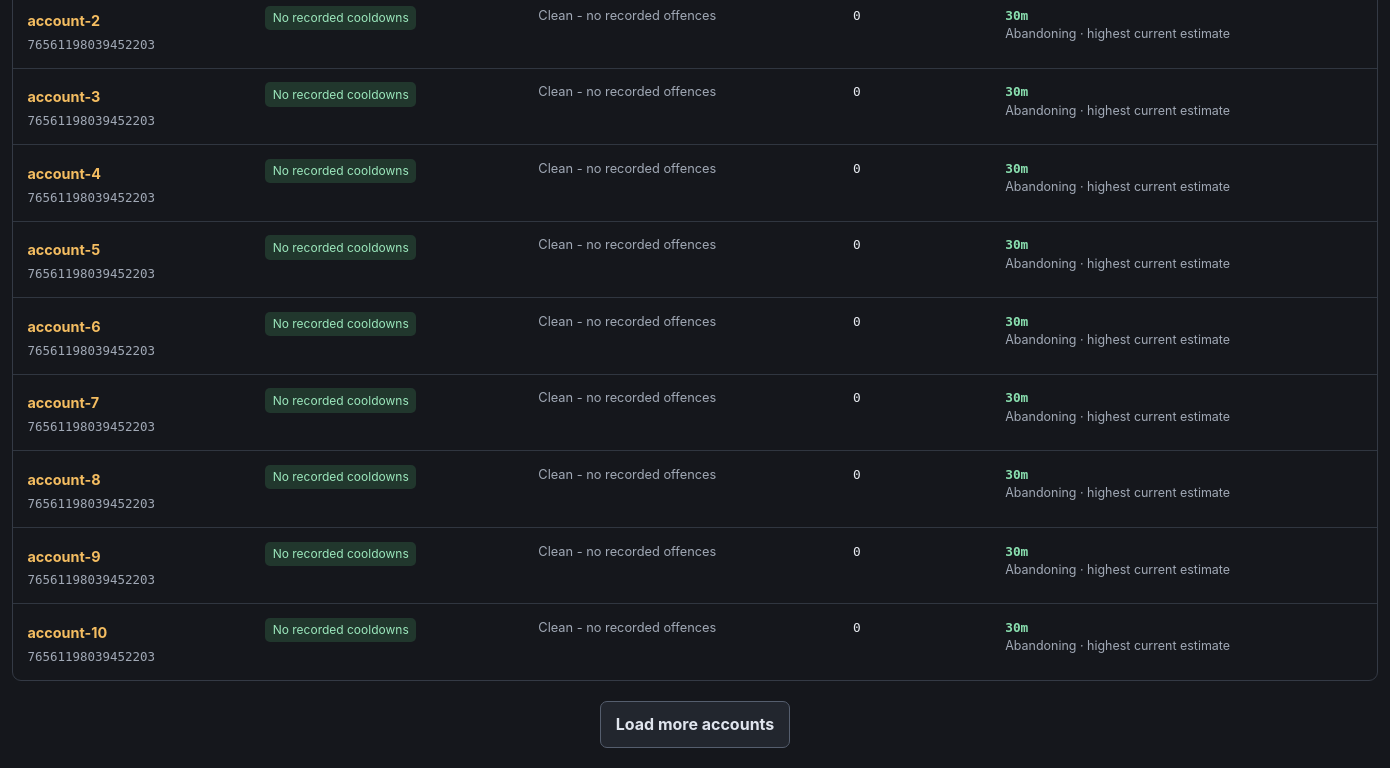
Scenario: [RQ-113 RQ-115 RQ-117 RQ-121] identifies saved and decayed account states, supporting offence and displayed row count
The image size is (1390, 768).
(page scrolled)
Click the button "Load more accounts" at (695, 724), box [600,701,790,748]
(page scrolled)
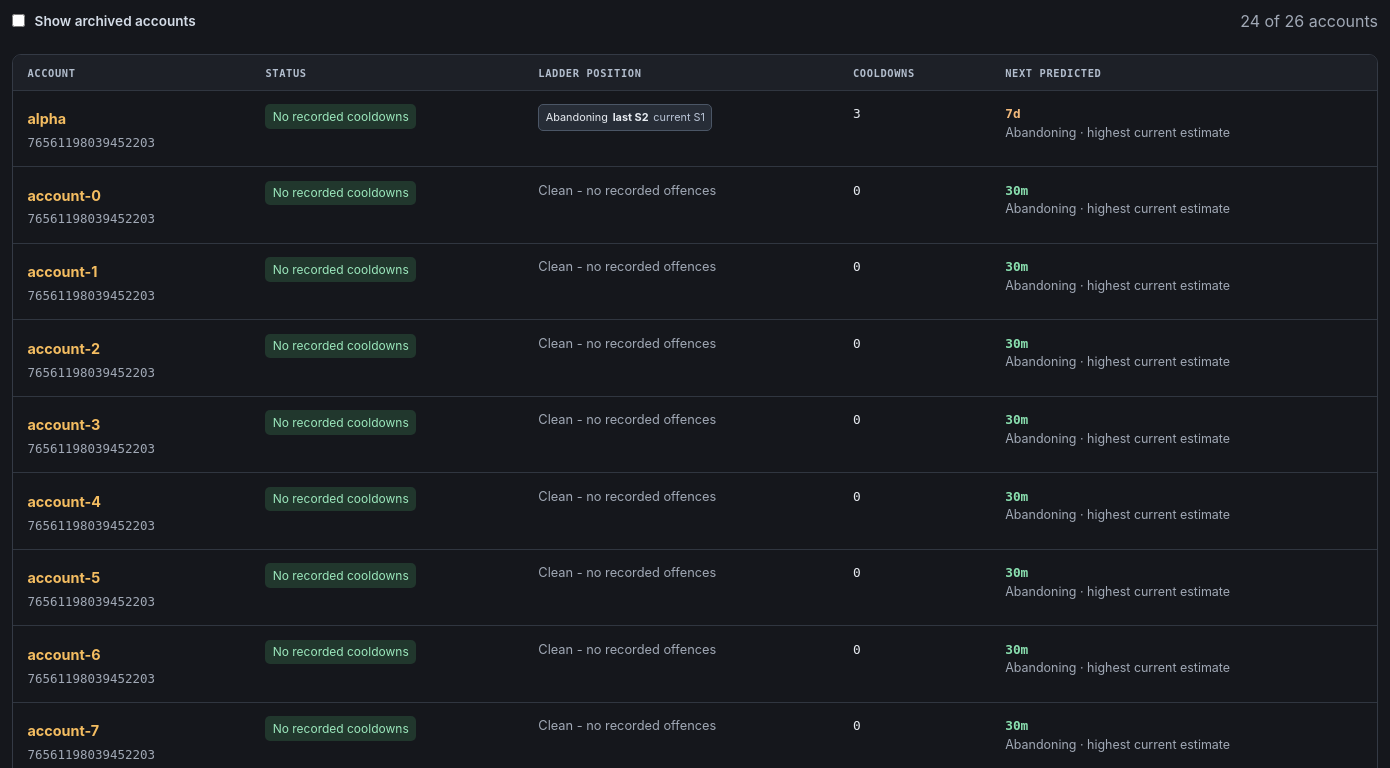
Check: the text "24 of 26 accounts" is shown, box [1240,9,1378,33]
